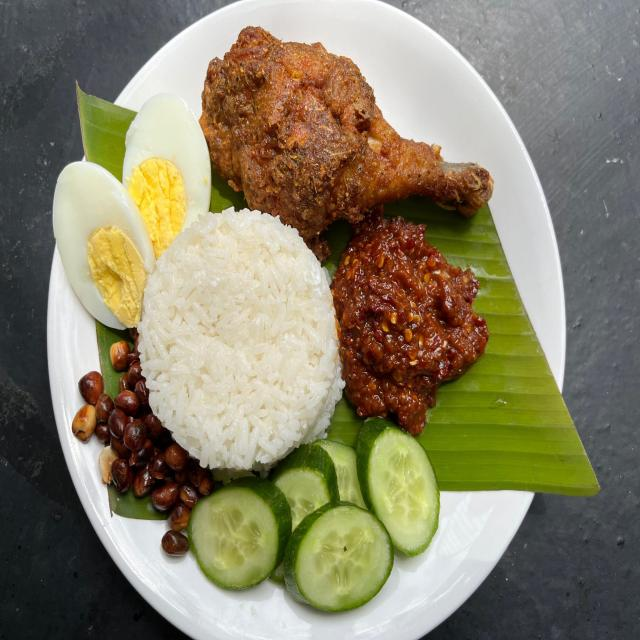Chicken: (200, 27, 494, 259)
Egg: (53, 93, 211, 330)
Green veg: (188, 419, 440, 612)
Rice: (138, 208, 345, 475)
